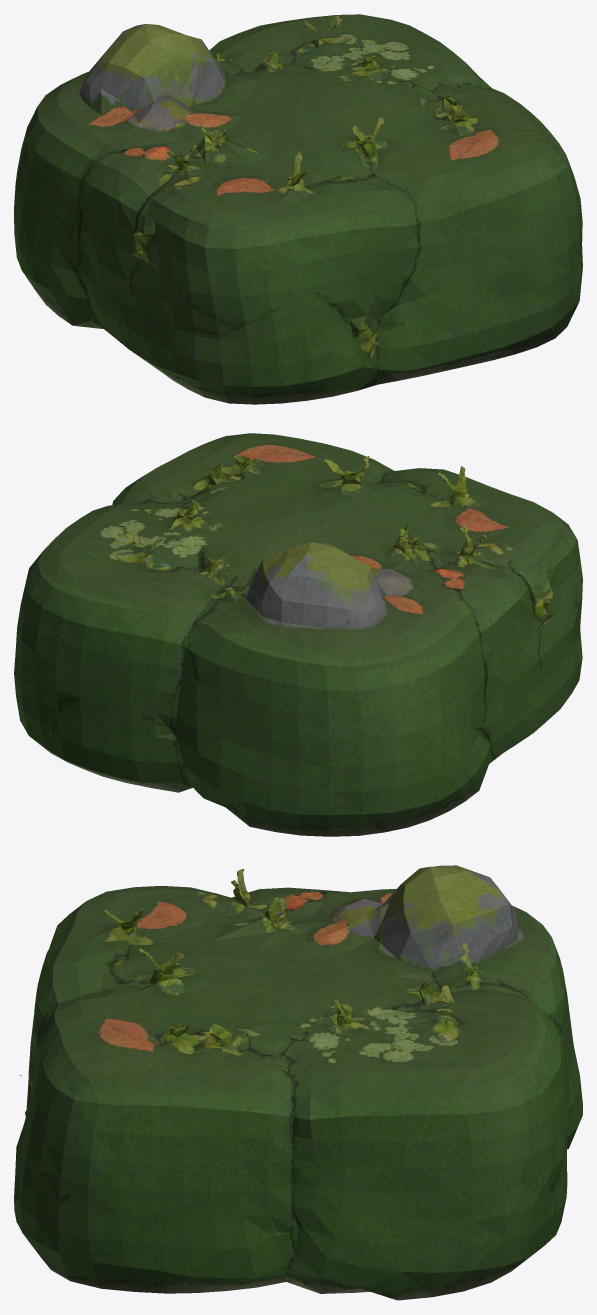
The model's file is Stage_05_Ground_DeepForest_001.fbx.
The picture shows the model from 3 angles, top to bottom: view 1: azimuth 30°, elevation 25°; view 2: azimuth 150°, elevation 25°; view 3: azimuth 270°, elevation 25°; orthographic projection. The views are drawn at different scales.
Visible parts, largest first — view 1: Stage_05_Ground_DeepForest_001; view 2: Stage_05_Ground_DeepForest_001; view 3: Stage_05_Ground_DeepForest_001.
Boxes of the visible parts, bbox=[...] form: Stage_05_Ground_DeepForest_001: bbox=[14, 14, 582, 404]; Stage_05_Ground_DeepForest_001: bbox=[14, 433, 582, 836]; Stage_05_Ground_DeepForest_001: bbox=[14, 865, 582, 1300].
Size of the model in its own units: 97.62 by 52.51 by 99.64.
